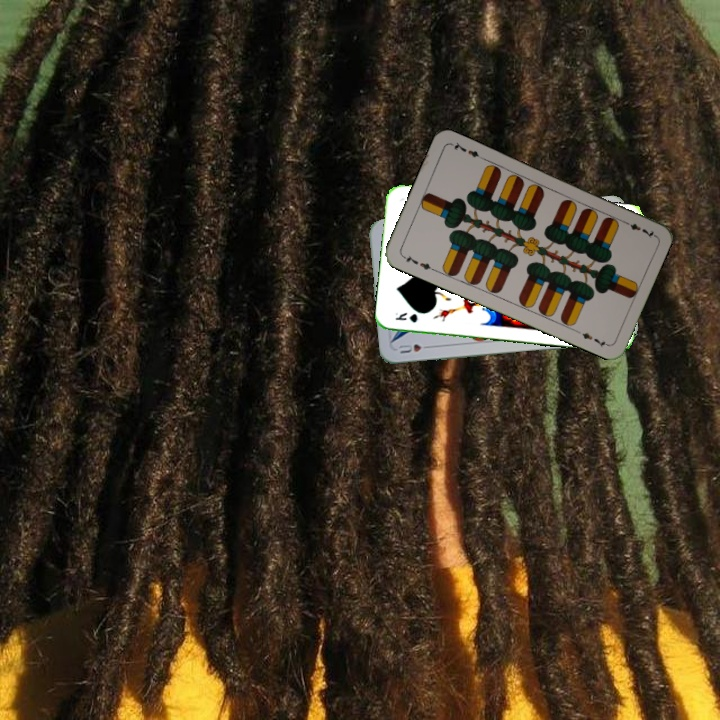E7: (619, 216, 657, 241), (398, 251, 437, 273)
GK: (391, 308, 420, 325)
HU: (395, 340, 434, 356)
